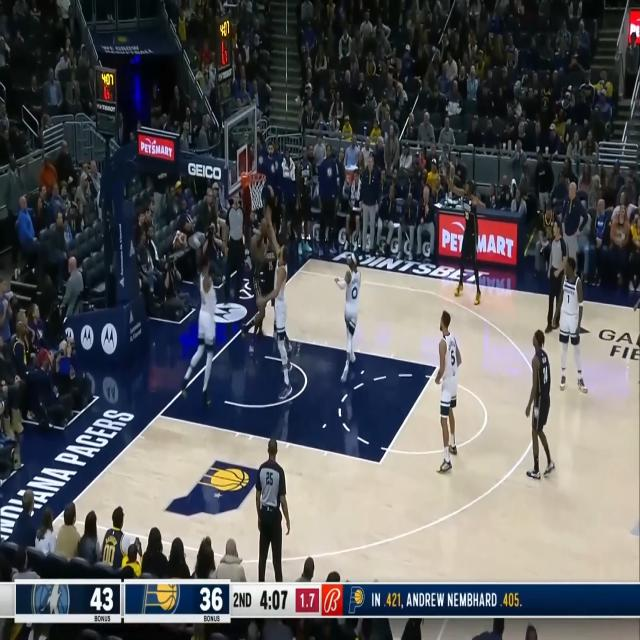Ball: (260, 219, 268, 235)
Hoop: (246, 171, 266, 211)
Period: (232, 589, 253, 611)
Player: (256, 207, 292, 401), (440, 165, 487, 306), (179, 250, 218, 407), (552, 256, 589, 395), (240, 224, 276, 354), (436, 310, 462, 473), (250, 212, 279, 340), (334, 249, 361, 381), (634, 294, 640, 386)
Ref: (254, 437, 290, 581), (223, 191, 246, 301), (544, 221, 567, 331)
Shot Clock: (300, 591, 316, 611)
Team Points: (198, 586, 224, 612), (90, 586, 114, 613)
Time Remaining: (260, 588, 290, 612)
